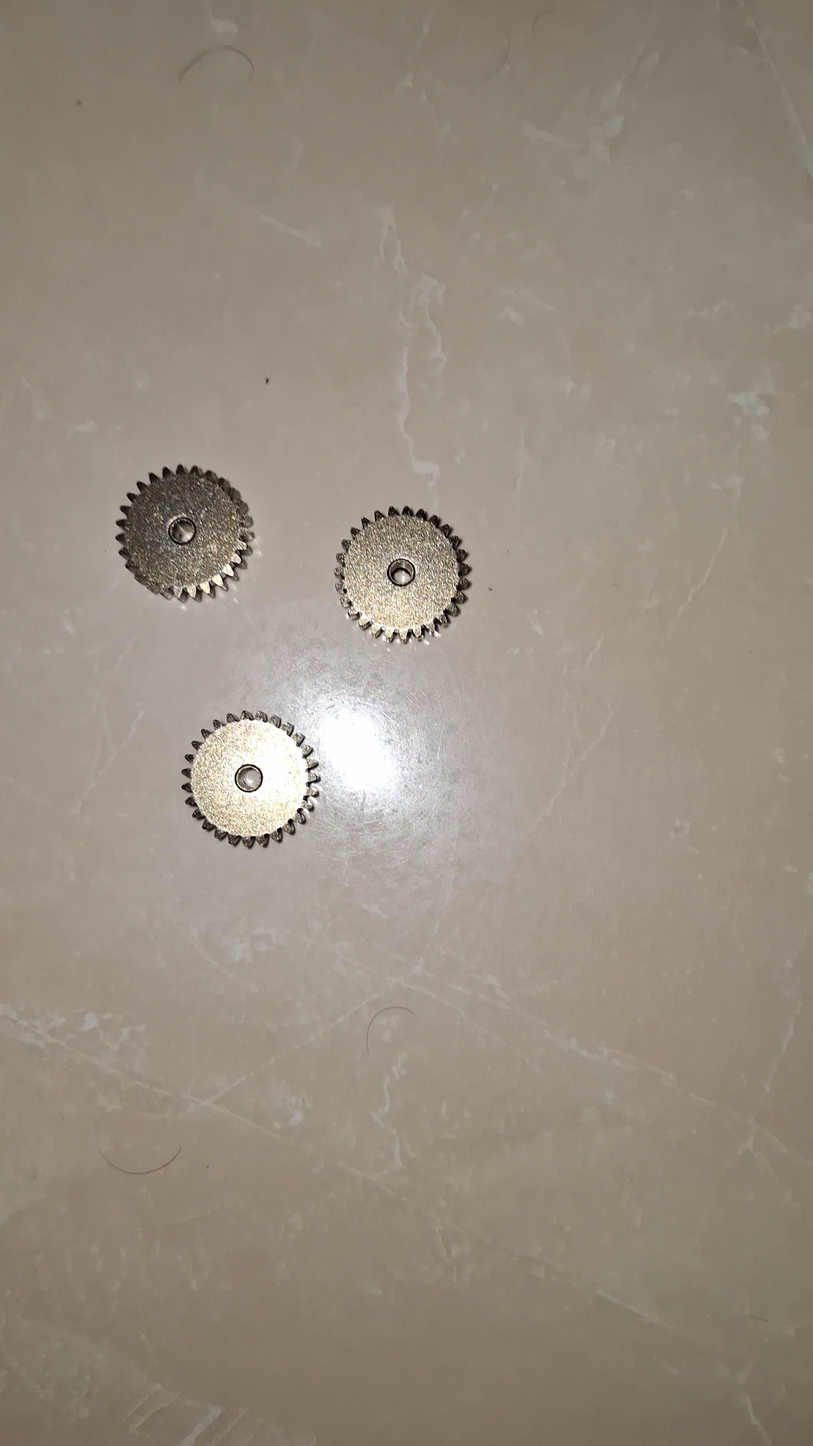spur gear: (183, 712, 319, 847), (335, 506, 470, 641), (117, 465, 253, 598)
